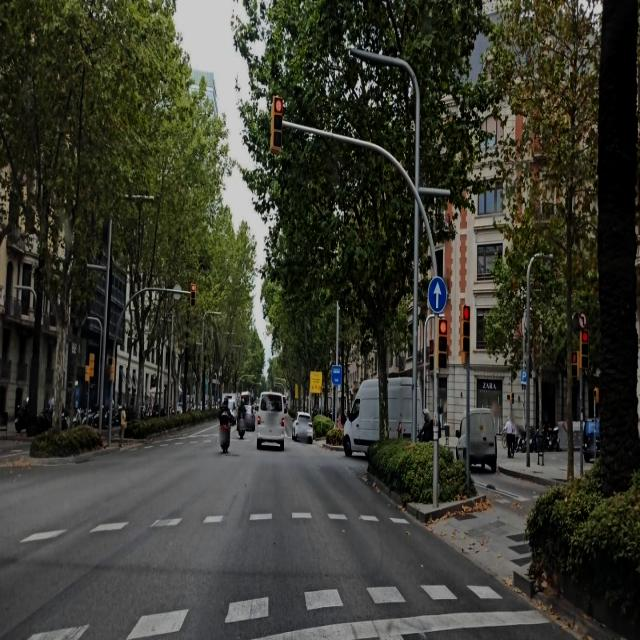bike: (219, 414, 231, 454)
car: (450, 407, 498, 474), (256, 391, 285, 451), (14, 408, 51, 438), (582, 418, 602, 463), (292, 412, 314, 443), (238, 392, 255, 431), (220, 391, 238, 427)
